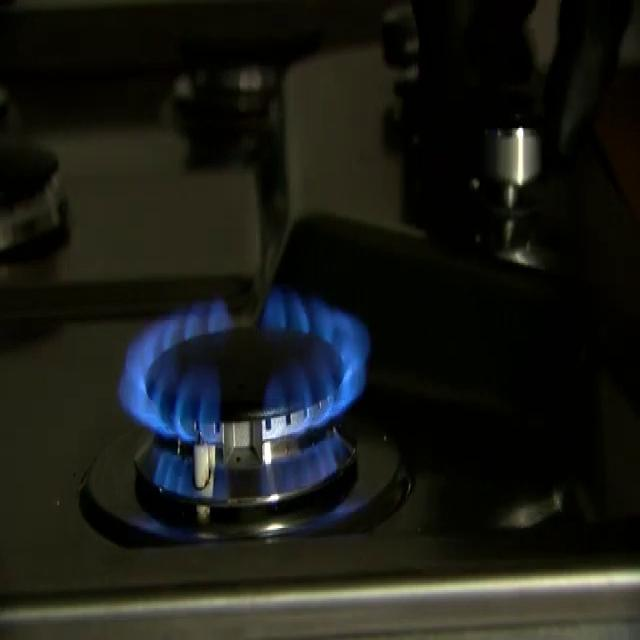fire: (106, 266, 437, 522)
